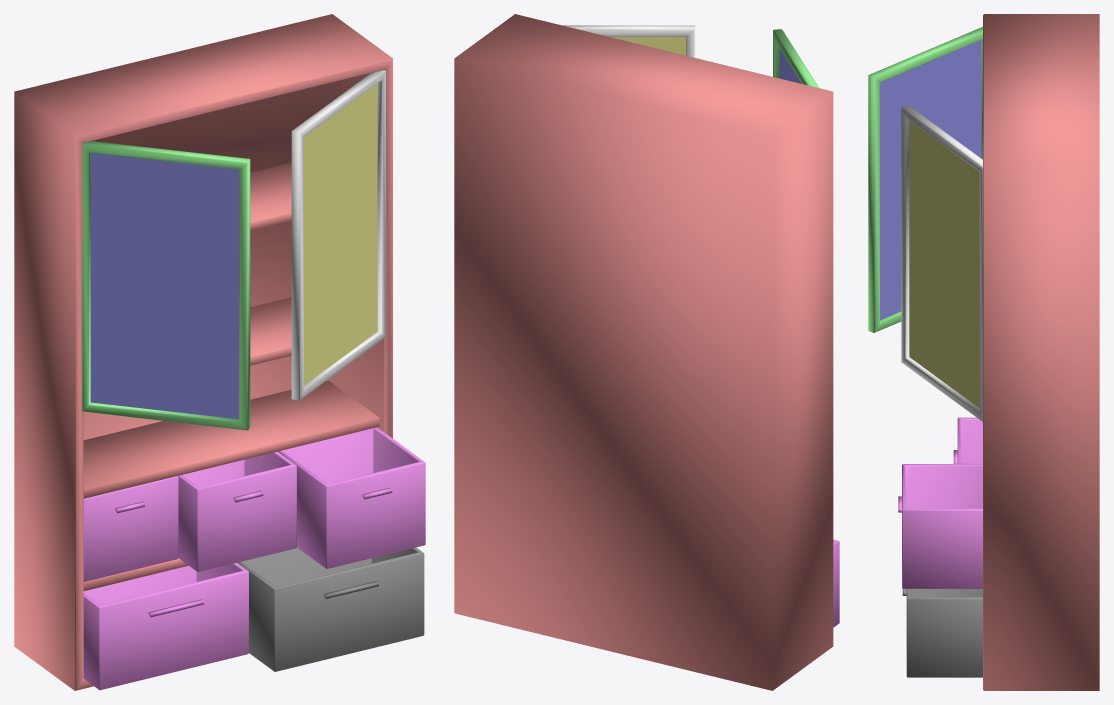
The model's file is shelf2.fbx.
The picture shows the model from 3 angles, left to right: view 1: azimuth 30°, elevation 25°; view 2: azimuth 150°, elevation 25°; view 3: azimuth 270°, elevation 25°; orthographic projection. The views are drawn at different scales.
Visible parts, largest first — view 1: shelf2; view 2: shelf2; view 3: shelf2.
Boxes of the visible parts, box(x1,y1,x2,y2) form: shelf2: box(14, 14, 425, 690); shelf2: box(454, 14, 839, 690); shelf2: box(868, 14, 1099, 690).
Bounding box in the file's own units: 180 × 300 × 119.
